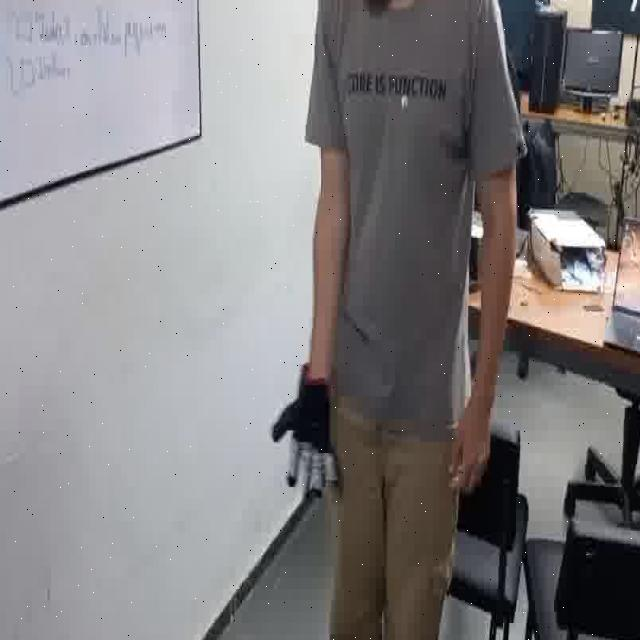Gloves: (262, 359, 348, 500)
